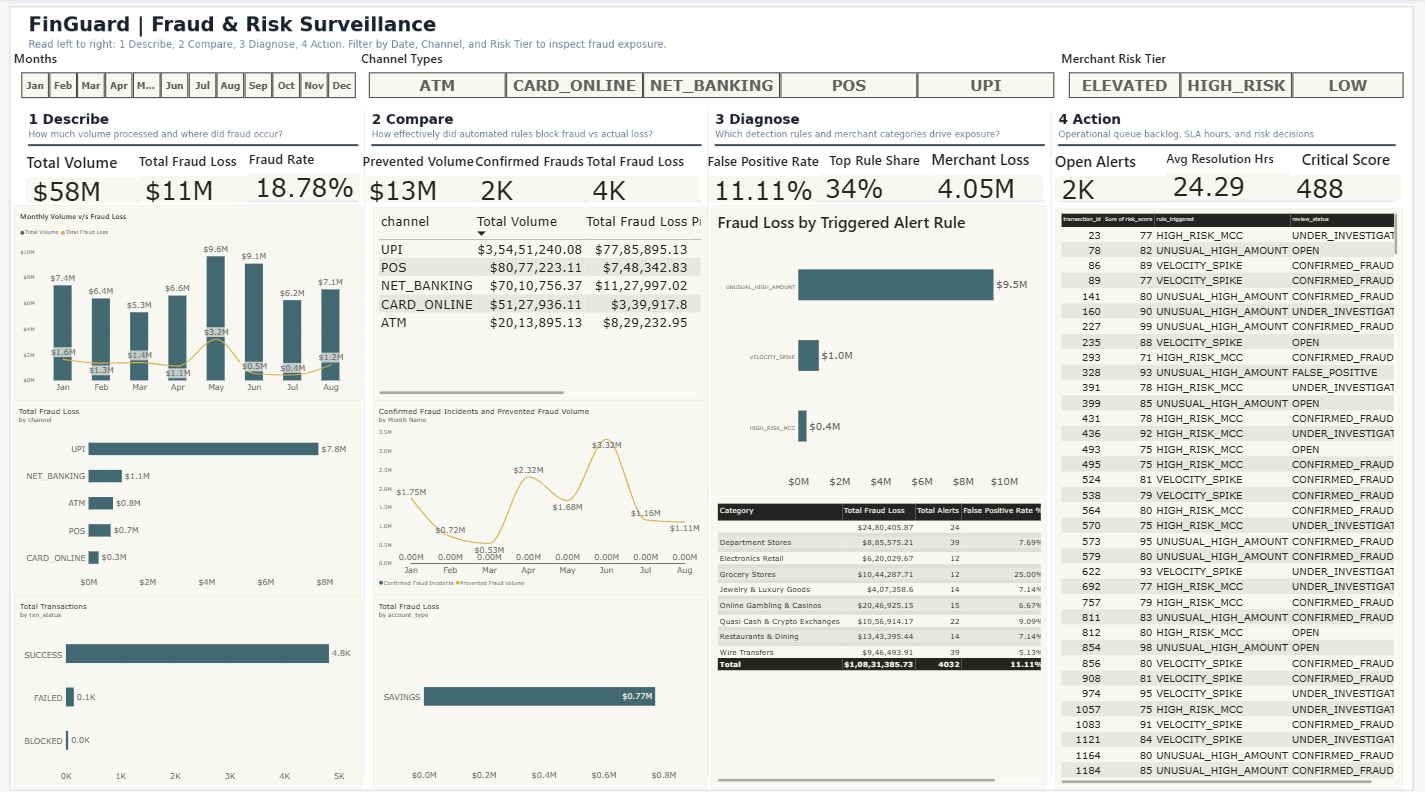

Layout of this report page (visuals, bound fields, positions):
{"tool":"powerbi","page":{"name":"Fraud and Risk Surveillance","canvas":[3840,2160],"ordinal":0},"visuals":[{"type":"slicer","title":"Months","fields":{"Values":["dim_date.Month Name"]},"box":[50.2,137.3,934.9,132.6],"z":0},{"type":"slicer","title":"Channel Types","fields":{"Values":["fact_transactions.channel"]},"box":[981.5,137.3,1876,132],"z":1000},{"type":"slicer","title":"Merchant Risk Tier","fields":{"Values":["dim_merchants.risk_tier"]},"box":[2857.5,137.3,936,132],"z":2000},{"type":"cardVisual","title":"Total Volume","fields":{"Data":["_Measures.Total Volume"]},"box":[83.7,411.6,299,136],"z":3000},{"type":"cardVisual","title":"Total Fraud Loss","fields":{"Data":["_Measures.Total Fraud Loss"]},"box":[383.7,411.6,299,136],"z":4000},{"type":"cardVisual","title":"Fraud Rate","fields":{"Data":["_Measures.Fraud Rate %"]},"box":[680.2,404.7,299,136],"z":5000},{"type":"lineStackedColumnComboChart","title":"Monthly Volume v/s Fraud Loss","fields":{"Category":["dim_date.Month Name"],"Y":["_Measures.Total Volume"],"Y2":["_Measures.Total Fraud Loss"]},"box":[50.2,556.1,934,522],"z":6000},{"type":"clusteredBarChart","fields":{"Category":["fact_transactions.channel"],"Y":["_Measures.Total Fraud Loss"]},"box":[46.9,1078.7,934.9,522],"z":7000},{"type":"clusteredBarChart","fields":{"Category":["fact_transactions.txn_status"],"Y":["_Measures.Total Transactions"]},"box":[50.2,1601.2,934.9,519.8],"z":8000},{"type":"cardVisual","title":"Total Fraud Loss","fields":{"Data":["_Measures.Total Alerts"]},"box":[1583.7,411.6,299,136],"z":9000},{"type":"cardVisual","title":"Confirmed Frauds","fields":{"Data":["_Measures.Confirmed Fraud Alerts"]},"box":[1283.7,411.6,299,136],"z":10000},{"type":"cardVisual","title":"Prevented Volume","fields":{"Data":["_Measures.Prevented Fraud Volume"]},"box":[983.7,411.6,299,136],"z":11000},{"type":"tableEx","fields":{"Values":["fact_transactions.channel","_Measures.Total Volume","_Measures.Total Fraud Loss","_Measures.Prevented Fraud Volume","_Measures.Fraud Rate %"]},"box":[1011.7,560,896.1,520],"z":12000},{"type":"lineChart","fields":{"Category":["dim_date.Month Name"],"Y":["_Measures.Confirmed Fraud Incidents","_Measures.Prevented Fraud Volume"]},"box":[1013.3,1080,896,520],"z":13000},{"type":"clusteredBarChart","fields":{"Category":["dim_accounts.account_type"],"Y":["_Measures.Total Fraud Loss"]},"box":[1011.7,1600.6,896.7,516.7],"z":14000},{"type":"cardVisual","title":"Top Rule Share","fields":{"Data":["_Measures.Top Rule Share %"]},"box":[2208.1,408.1,299,136],"z":15000},{"type":"cardVisual","title":"False Positive Rate","fields":{"Data":["_Measures.False Positive Rate %"]},"box":[1908.1,411.6,300,136],"z":16000},{"type":"cardVisual","title":"Merchant Loss","fields":{"Data":["_Measures.High Risk Merchant Loss"]},"box":[2508.1,404.7,299,136],"z":17000},{"type":"clusteredBarChart","title":"Fraud Loss by Triggered Alert Rule","fields":{"Category":["fact_fraud_alerts.rule_triggered"],"Y":["_Measures.Total Fraud Loss"]},"box":[1918.6,554.7,900,778],"z":18000},{"type":"tableEx","fields":{"Values":["dim_merchants.category","_Measures.Total Fraud Loss","_Measures.Total Alerts","_Measures.False Positive Rate %","dim_merchants.risk_tier"]},"box":[1920,1340,900,778],"z":19000},{"type":"cardVisual","title":"Open Alerts","fields":{"Data":["_Measures.Open Alerts"]},"box":[2839.5,408.1,299,136],"z":20000},{"type":"cardVisual","title":"Avg Resolution Hrs","fields":{"Data":["_Measures.Avg Resolution Hours"]},"box":[3139.2,404.5,332.9,136],"z":21000},{"type":"cardVisual","title":"Critical Score","fields":{"Data":["_Measures.Critical Score > 90"]},"box":[3472,404.5,299,136],"z":22000},{"type":"tableEx","fields":{"Values":["fact_fraud_alerts.transaction_id","Sum(fact_fraud_alerts.risk_score)","fact_fraud_alerts.rule_triggered","fact_fraud_alerts.review_status"]},"box":[2839.5,561.6,934.9,1559.3],"z":23000}]}

Visuals, with their boxes in screenshot pixels (x1, y1, x2, y2), scaled from the page's 3840x2160 canvas onto the 1425x792 screenshot:
"Months" slicer: detection(19, 50, 366, 99)
"Channel Types" slicer: detection(364, 50, 1060, 99)
"Merchant Risk Tier" slicer: detection(1060, 50, 1408, 99)
"Total Volume" cardVisual: detection(31, 151, 142, 201)
"Total Fraud Loss" cardVisual: detection(142, 151, 253, 201)
"Fraud Rate" cardVisual: detection(252, 148, 363, 198)
"Monthly Volume v/s Fraud Loss" lineStackedColumnComboChart: detection(19, 204, 365, 395)
clusteredBarChart - fact_transactions.channel x _Measures.Total Fraud Loss: detection(17, 396, 364, 587)
clusteredBarChart - fact_transactions.txn_status x _Measures.Total Transactions: detection(19, 587, 366, 778)
"Total Fraud Loss" cardVisual: detection(588, 151, 699, 201)
"Confirmed Frauds" cardVisual: detection(476, 151, 587, 201)
"Prevented Volume" cardVisual: detection(365, 151, 476, 201)
tableEx - fact_transactions.channel x _Measures.Total Volume: detection(375, 205, 708, 396)
lineChart - dim_date.Month Name x _Measures.Confirmed Fraud Incidents: detection(376, 396, 709, 587)
clusteredBarChart - dim_accounts.account_type x _Measures.Total Fraud Loss: detection(375, 587, 708, 776)
"Top Rule Share" cardVisual: detection(819, 150, 930, 200)
"False Positive Rate" cardVisual: detection(708, 151, 819, 201)
"Merchant Loss" cardVisual: detection(931, 148, 1042, 198)
"Fraud Loss by Triggered Alert Rule" clusteredBarChart: detection(712, 203, 1046, 489)
tableEx - dim_merchants.category x _Measures.Total Fraud Loss: detection(712, 491, 1046, 777)
"Open Alerts" cardVisual: detection(1054, 150, 1165, 200)
"Avg Resolution Hrs" cardVisual: detection(1165, 148, 1288, 198)
"Critical Score" cardVisual: detection(1288, 148, 1399, 198)
tableEx - fact_fraud_alerts.transaction_id x Sum(fact_fraud_alerts.risk_score): detection(1054, 206, 1401, 778)
